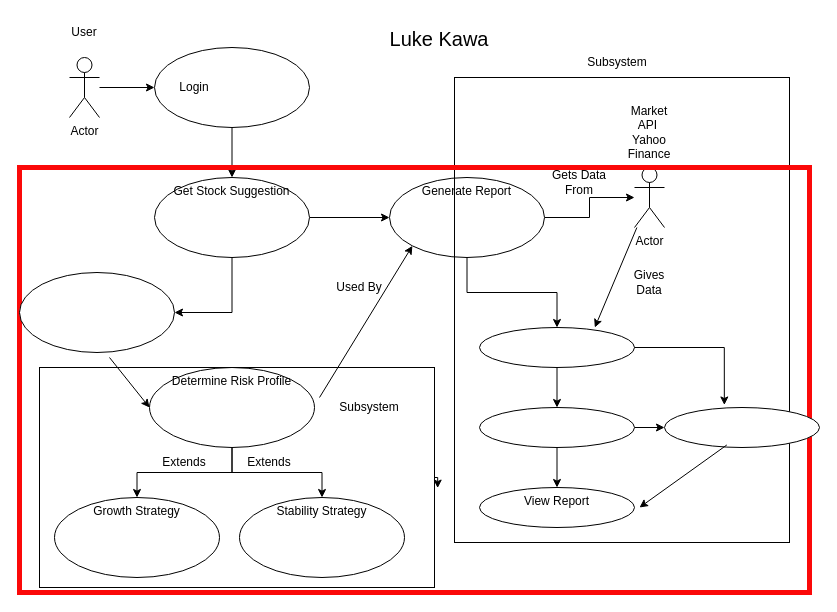
The diagram is 837 pixels wide and 612 high, and some of its shapes have lost their labels. Each missing label, with the centre of its shape:
Enter Budget: the point at 96,312
Growth Suggestion: the point at 556,427
Load Market Data: the point at 556,347
Stability Suggestion: the point at 742,427
